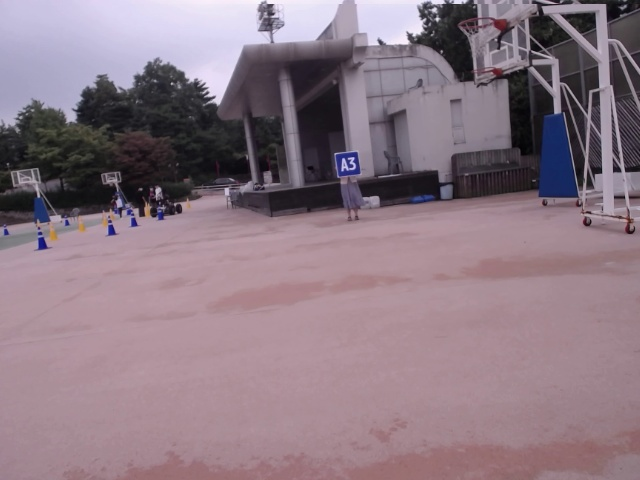delivery_a3: (334, 151, 361, 177)
